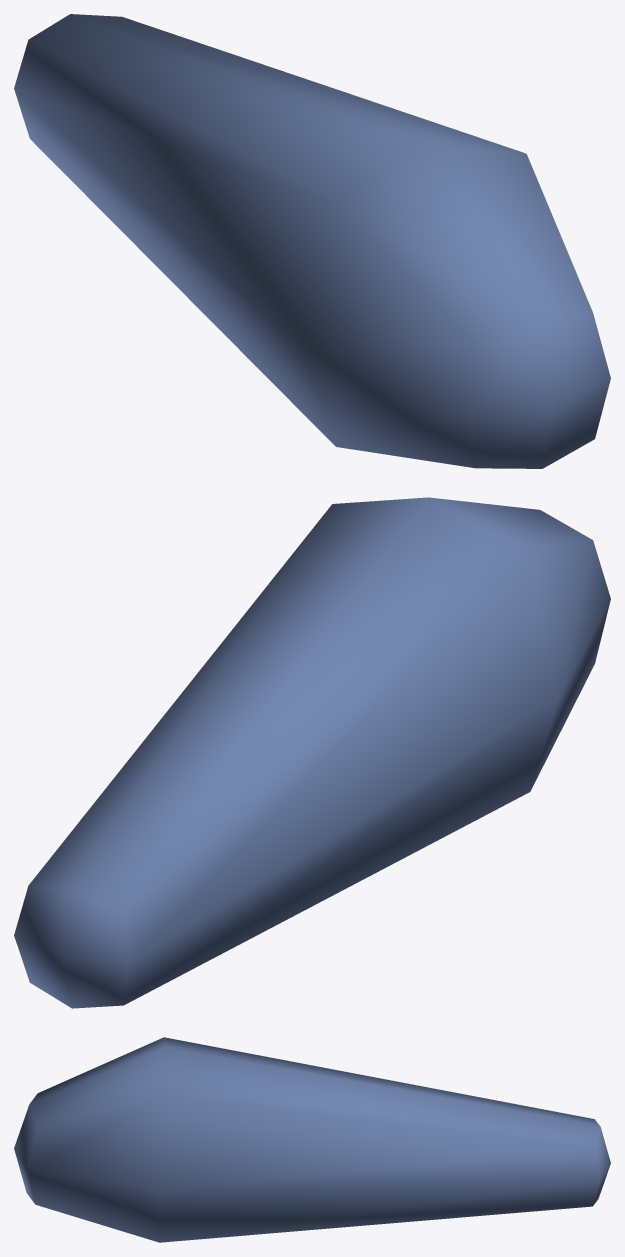
Rendered from LowerLegRight.dae.
The picture shows the model from 3 angles, top to bottom: view 1: azimuth 30°, elevation 25°; view 2: azimuth 150°, elevation 25°; view 3: azimuth 270°, elevation 25°; orthographic projection. The views are drawn at different scales.
Parts seen in each view (by area): view 1: LowerLeg_R; view 2: LowerLeg_R; view 3: LowerLeg_R.
Boxes of the visible parts, x1=… form: LowerLeg_R: x1=14, y1=14, x2=610, y2=468; LowerLeg_R: x1=14, y1=497, x2=610, y2=1008; LowerLeg_R: x1=14, y1=1037, x2=610, y2=1242.
Size of the model in its own units: 0.1234 by 0.4142 by 0.1419.
